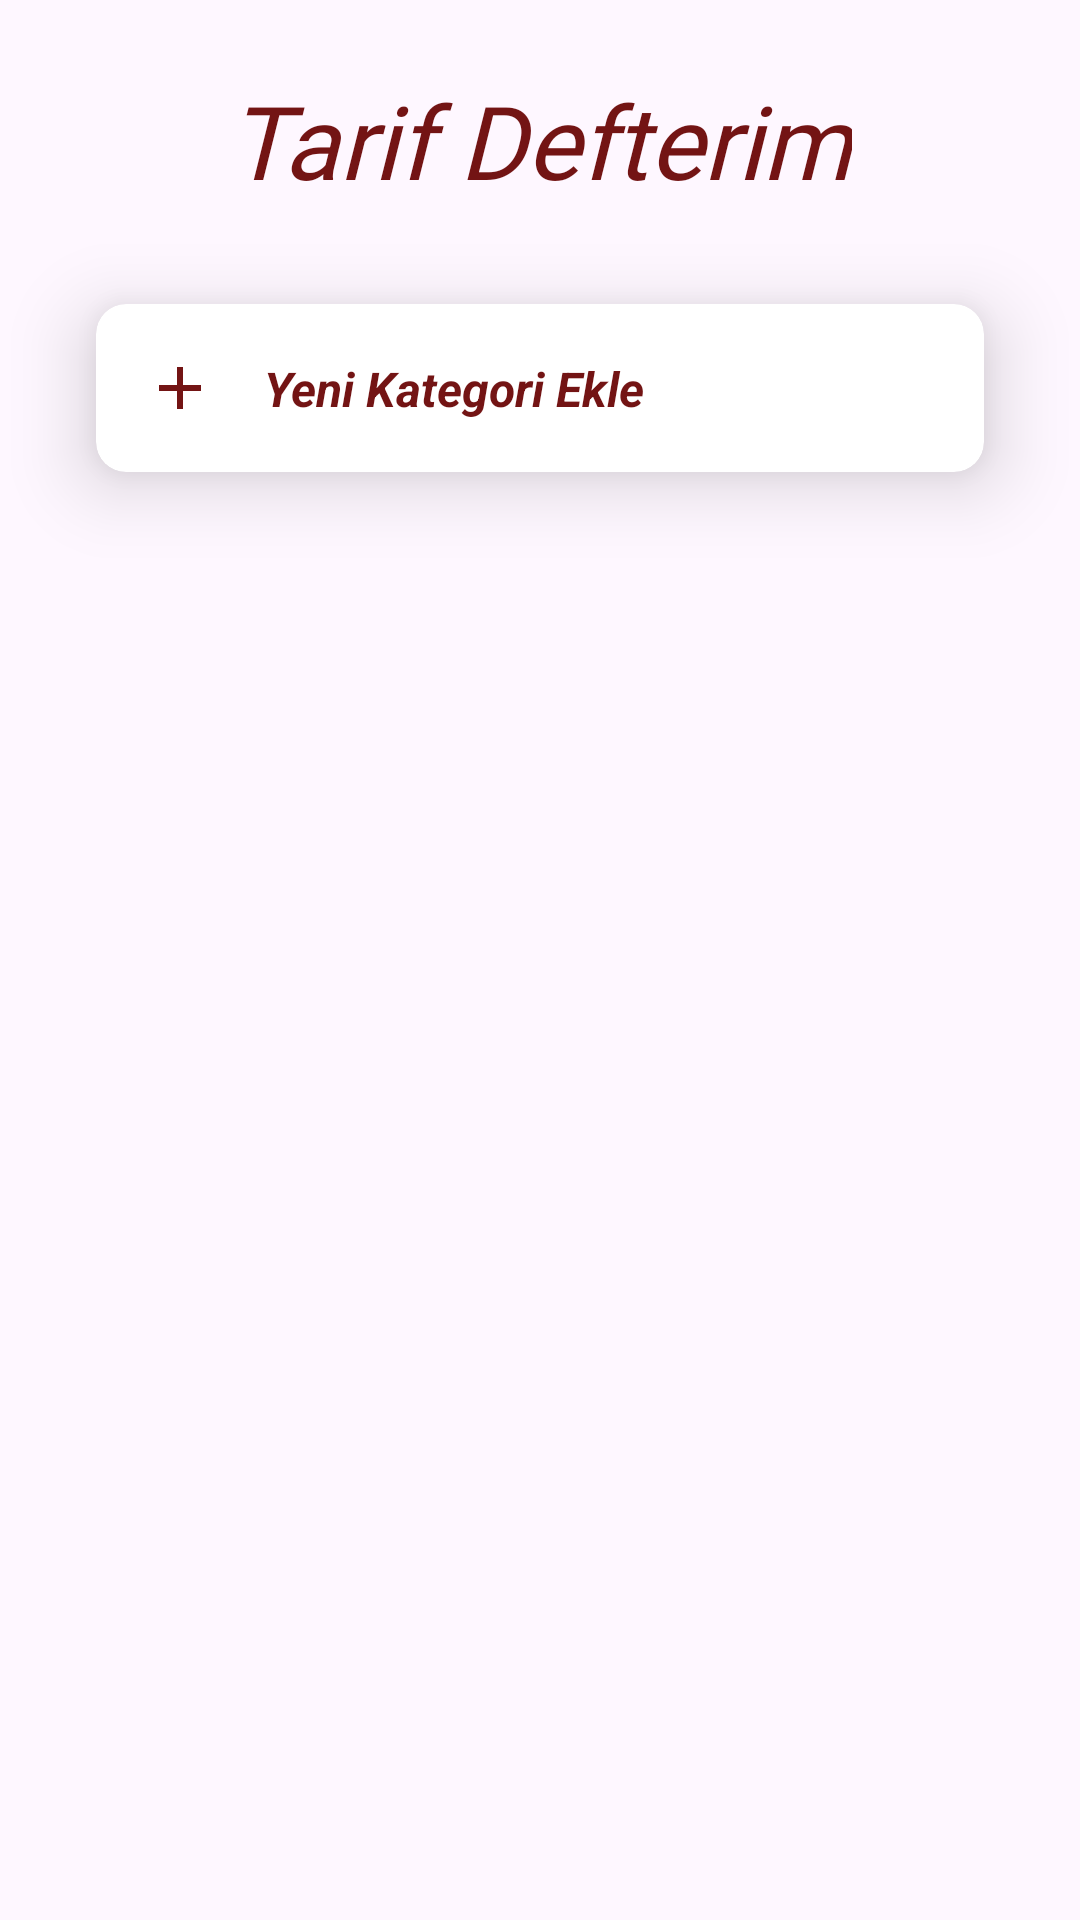

Where to tap for icons on this 1080x1920 app screen, as (x=x, y=y):
add: (x=180, y=388)
